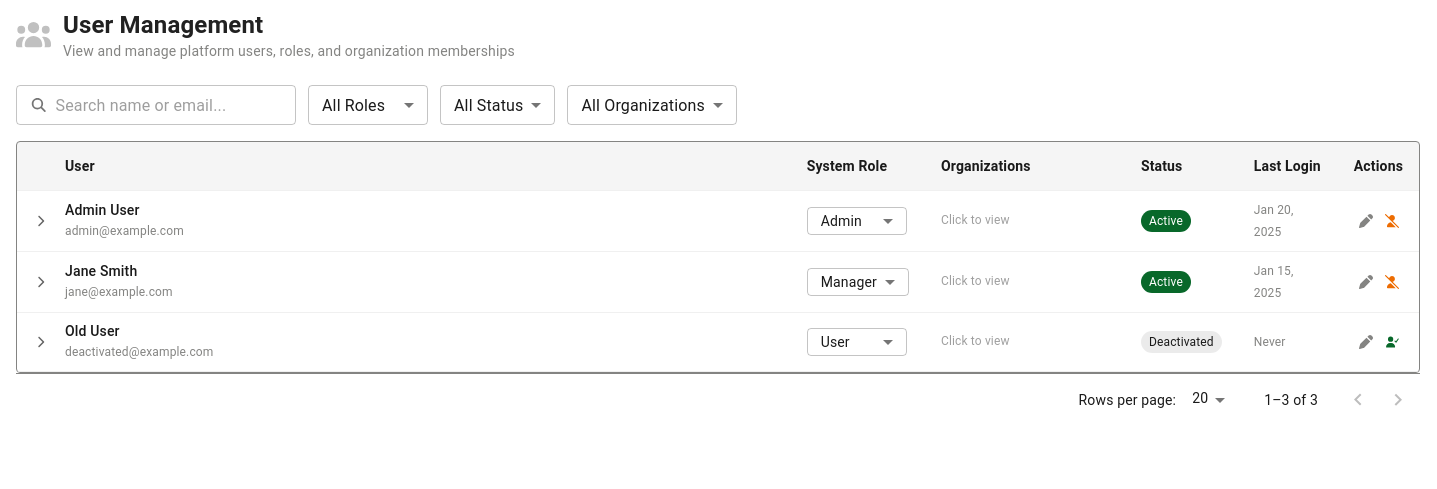
UserListPage › shows warning when trying to remove last administrator
Expected: the text "Admin User" is shown, [65,202,140,218]
Click the dropdown labelled "Admin" at {"x": 841, "y": 221}, box [821,213,862,229]
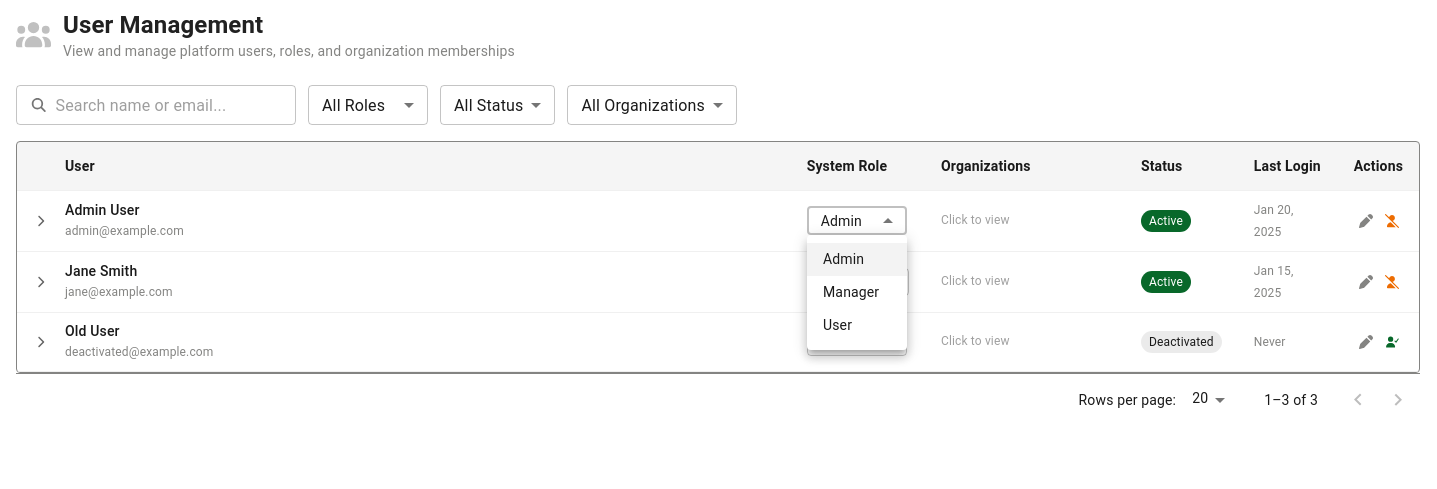
Click the option "Manager" at {"x": 851, "y": 292}, box [823,284,879,300]
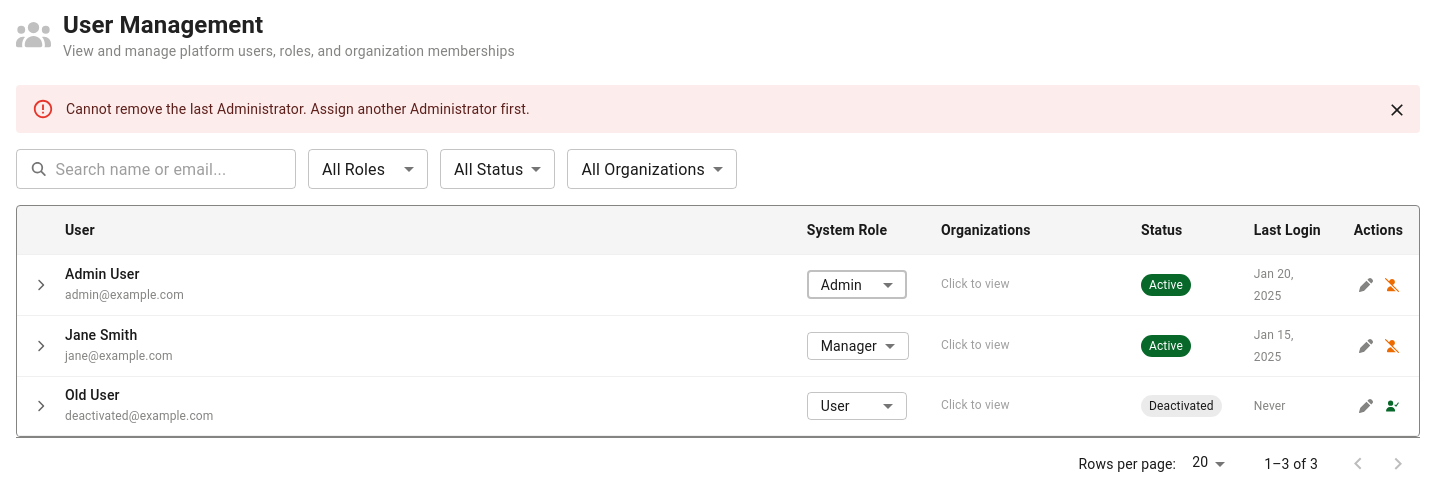
Expected: the text "Assign another Administrator first" is shown, [66,101,530,117]
